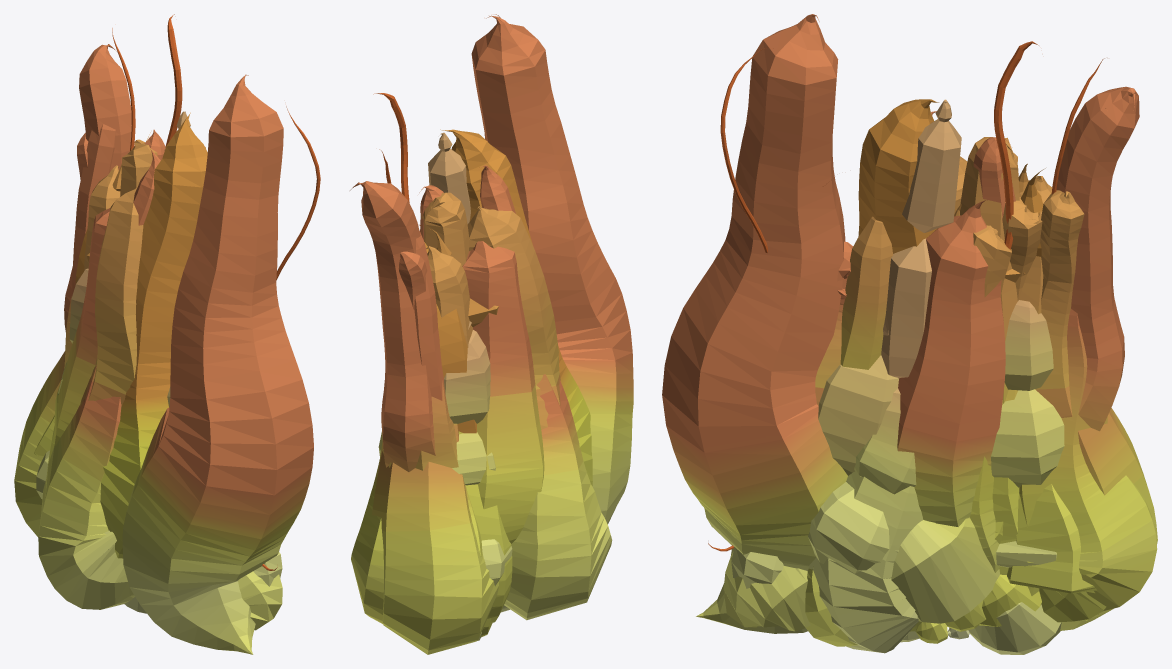
The model's file is Fire.fbx.
The picture shows the model from 3 angles, left to right: view 1: azimuth 30°, elevation 25°; view 2: azimuth 150°, elevation 25°; view 3: azimuth 270°, elevation 25°; orthographic projection. The views are drawn at different scales.
Parts seen in each view (by area): view 1: Fire; view 2: Fire; view 3: Fire.
Part boxes in pixels (<box>): Fire: <box>14,14,320,654</box>; Fire: <box>350,14,633,654</box>; Fire: <box>662,14,1157,654</box>.
Bounding box in the file's own units: 1.88 × 4.96 × 3.38.
